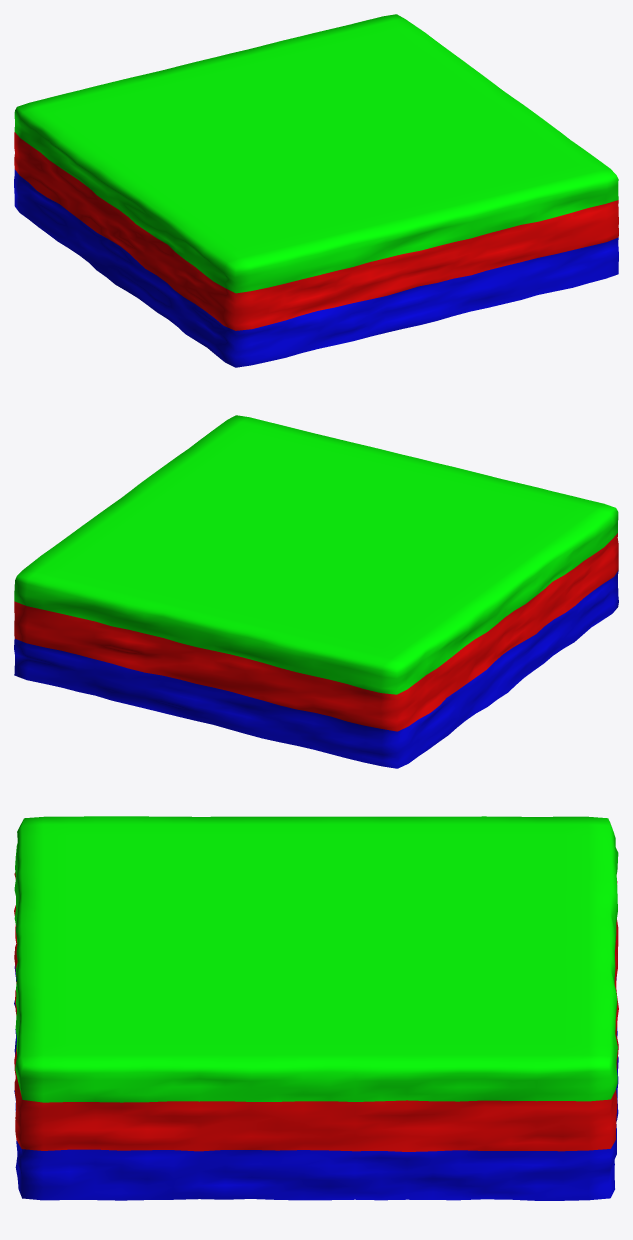
File: Title_Edge.fbx
3 views of the same model, one above another, from view 1: azimuth 30°, elevation 25°; view 2: azimuth 150°, elevation 25°; view 3: azimuth 270°, elevation 25° (orthographic). The views are drawn at different scales.
Visible parts, largest first — view 1: Title_Edge; view 2: Title_Edge; view 3: Title_Edge.
Boxes of the visible parts, x1,y1,x2,y2 form: Title_Edge: [14, 14, 618, 367]; Title_Edge: [14, 415, 618, 768]; Title_Edge: [14, 816, 618, 1200].
Size of the model in its own units: 2031 by 600 by 2026.
